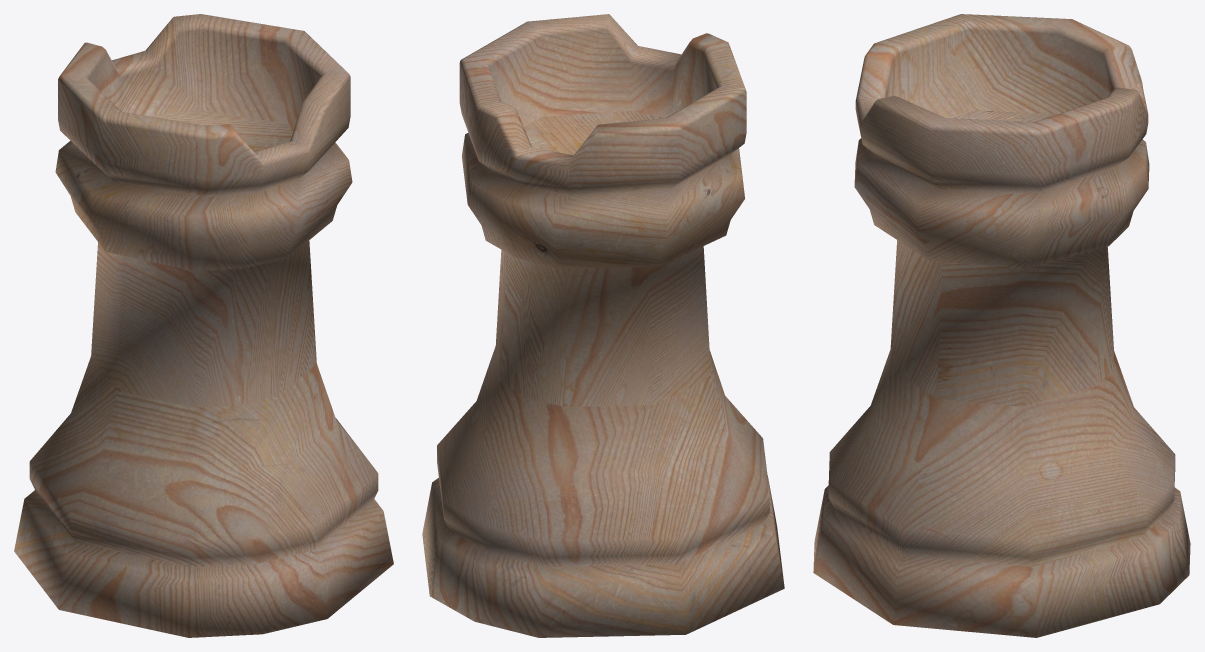
Rendered from Rook_white.glb.
3 views of the same model, side by side, from view 1: azimuth 30°, elevation 25°; view 2: azimuth 150°, elevation 25°; view 3: azimuth 270°, elevation 25° (orthographic).
Parts seen in each view (by area): view 1: Object_16; view 2: Object_16; view 3: Object_16.
Part boxes in pixels (x1=…): Object_16: x1=14, y1=14, x2=393, y2=637; Object_16: x1=422, y1=14, x2=784, y2=637; Object_16: x1=813, y1=14, x2=1190, y2=637.
Bounding box in the file's own units: 0.0295 × 0.042 × 0.0295.
1 material, 1 textured.
